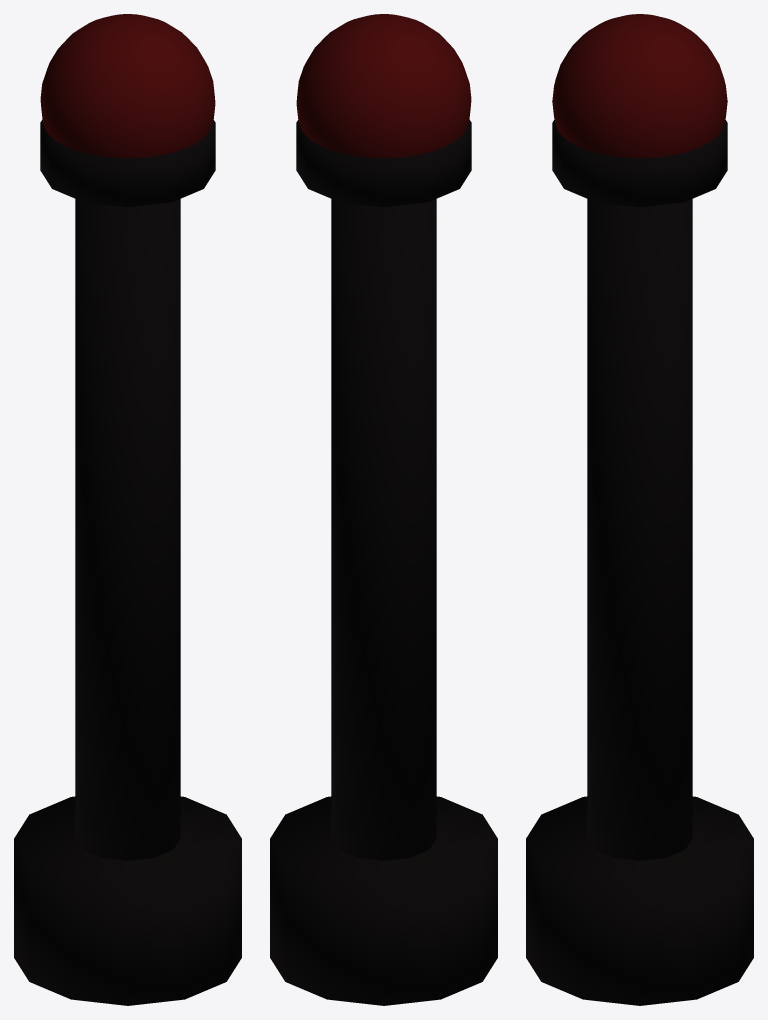
Rendered from lamp.obj.
3 views of the same model, side by side, from view 1: azimuth 30°, elevation 25°; view 2: azimuth 150°, elevation 25°; view 3: azimuth 270°, elevation 25° (orthographic).
Parts seen in each view (by area): view 1: Cylinder.001_Cylinder.001, Cylinder_Cylinder.001, Sphere.002, Cylinder.002_Cylinder.001; view 2: Cylinder.001_Cylinder.001, Cylinder_Cylinder.001, Sphere.002, Cylinder.002_Cylinder.001; view 3: Cylinder.001_Cylinder.001, Cylinder_Cylinder.001, Sphere.002, Cylinder.002_Cylinder.001.
Part boxes in pixels (x1,y1,x2,y2): Cylinder.001_Cylinder.001: [75, 199, 180, 860]; Cylinder_Cylinder.001: [14, 796, 241, 1005]; Sphere.002: [40, 14, 215, 158]; Cylinder.002_Cylinder.001: [40, 119, 215, 207]; Cylinder.001_Cylinder.001: [331, 199, 436, 860]; Cylinder_Cylinder.001: [270, 796, 497, 1005]; Sphere.002: [296, 14, 471, 158]; Cylinder.002_Cylinder.001: [296, 119, 471, 207]; Cylinder.001_Cylinder.001: [587, 199, 692, 860]; Cylinder_Cylinder.001: [526, 796, 753, 1005]; Sphere.002: [552, 14, 727, 158]; Cylinder.002_Cylinder.001: [552, 119, 727, 207].
Size of the model in its own units: 7.8 by 35.33 by 7.8.
